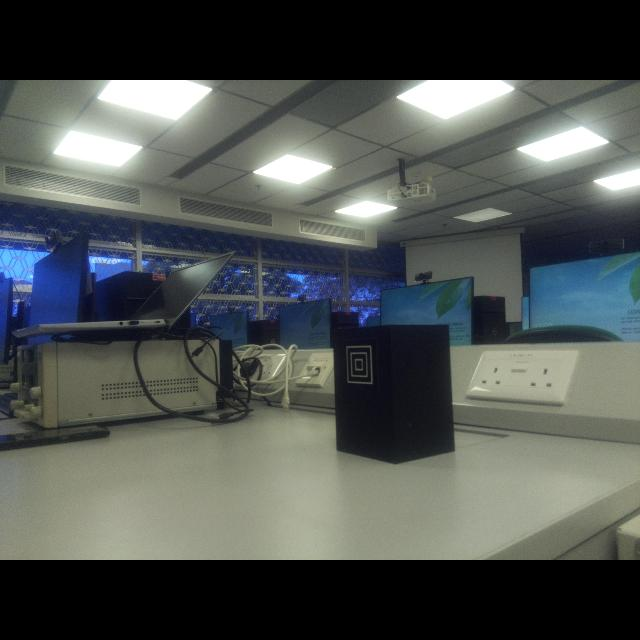BULLSEYE: (346, 346, 373, 385)
